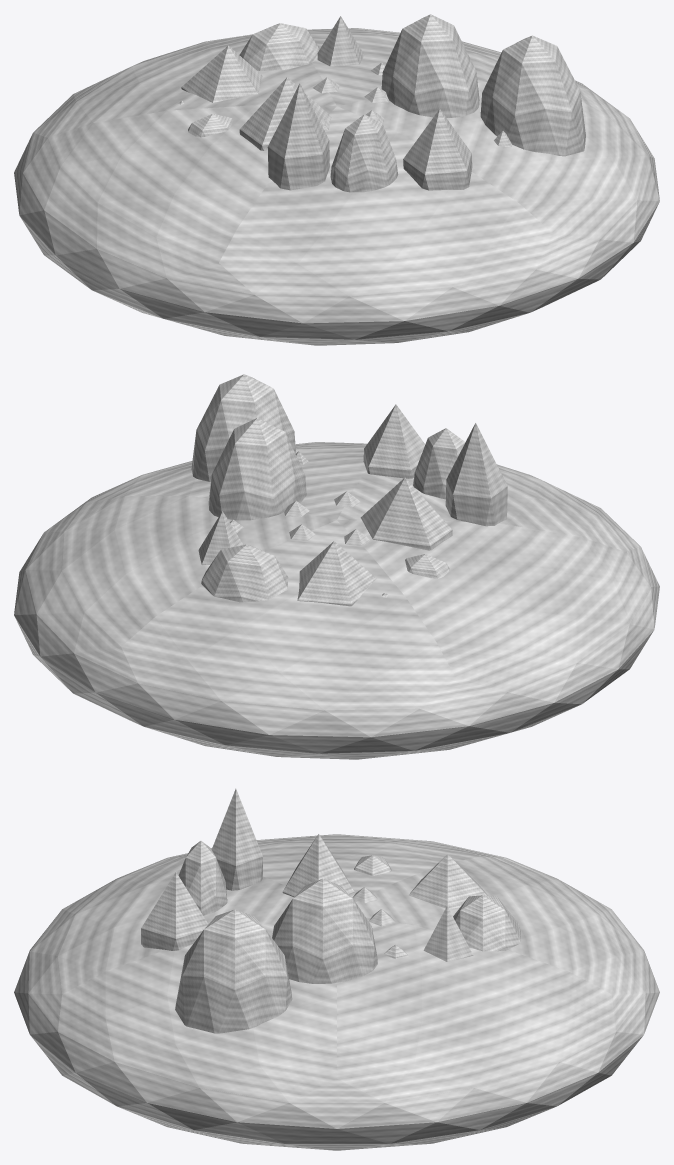
File: bauxite_node_variant_c.glb
3 views of the same model, one above another, from view 1: azimuth 30°, elevation 25°; view 2: azimuth 150°, elevation 25°; view 3: azimuth 270°, elevation 25° (orthographic).
Visible parts, largest first — view 1: Resource node bedrock.002, Exposed ore formation.033, Exposed ore formation.021, Exposed ore formation.029, Exposed ore formation.030, Exposed ore formation.031, Exposed ore formation.024, Exposed ore formation.025, Exposed ore formation.028, Exposed ore formation.023, Exposed ore formation.027; view 2: Resource node bedrock.002, Exposed ore formation.021, Exposed ore formation.033, Exposed ore formation.029, Exposed ore formation.028, Exposed ore formation.024, Exposed ore formation.025, Exposed ore formation.031, Exposed ore formation.030, Exposed ore formation.023, Exposed ore formation.027; view 3: Resource node bedrock.002, Exposed ore formation.033, Exposed ore formation.021, Exposed ore formation.031, Exposed ore formation.029, Exposed ore formation.024, Exposed ore formation.030, Exposed ore formation.025, Exposed ore formation.028, Exposed ore formation.023, Exposed ore formation.027.
Boxes of the visible parts, <box> form: Resource node bedrock.002: <box>14,28,659,345</box>; Exposed ore formation.033: <box>480,35,585,156</box>; Exposed ore formation.021: <box>381,14,479,117</box>; Exposed ore formation.029: <box>267,83,329,190</box>; Exposed ore formation.030: <box>330,114,398,192</box>; Exposed ore formation.031: <box>403,109,472,190</box>; Exposed ore formation.024: <box>239,23,319,70</box>; Exposed ore formation.025: <box>181,45,262,102</box>; Exposed ore formation.028: <box>239,77,331,150</box>; Exposed ore formation.023: <box>317,16,364,66</box>; Exposed ore formation.027: <box>188,114,232,137</box>; Resource node bedrock.002: <box>14,442,659,759</box>; Exposed ore formation.021: <box>208,418,306,520</box>; Exposed ore formation.033: <box>191,374,295,481</box>; Exposed ore formation.029: <box>445,423,507,526</box>; Exposed ore formation.028: <box>360,477,452,550</box>; Exposed ore formation.024: <box>201,544,288,602</box>; Exposed ore formation.025: <box>297,541,376,606</box>; Exposed ore formation.031: <box>363,404,425,478</box>; Exposed ore formation.030: <box>413,428,465,499</box>; Exposed ore formation.023: <box>198,511,243,564</box>; Exposed ore formation.027: <box>405,554,449,578</box>; Resource node bedrock.002: <box>14,834,659,1150</box>; Exposed ore formation.033: <box>175,909,292,1033</box>; Exposed ore formation.021: <box>272,878,377,983</box>; Exposed ore formation.031: <box>141,872,208,950</box>; Exposed ore formation.029: <box>211,788,262,890</box>; Exposed ore formation.024: <box>453,895,520,951</box>; Exposed ore formation.030: <box>178,841,227,915</box>; Exposed ore formation.025: <box>408,854,487,908</box>; Exposed ore formation.028: <box>282,834,354,896</box>; Exposed ore formation.023: <box>423,906,473,961</box>; Exposed ore formation.027: <box>354,855,391,875</box>.
Size of what is drawn, in the model's own units: 6.2 by 2.56 by 6.2.
2 materials, 2 textured.
